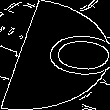O_W: (6, 28, 104, 82)
